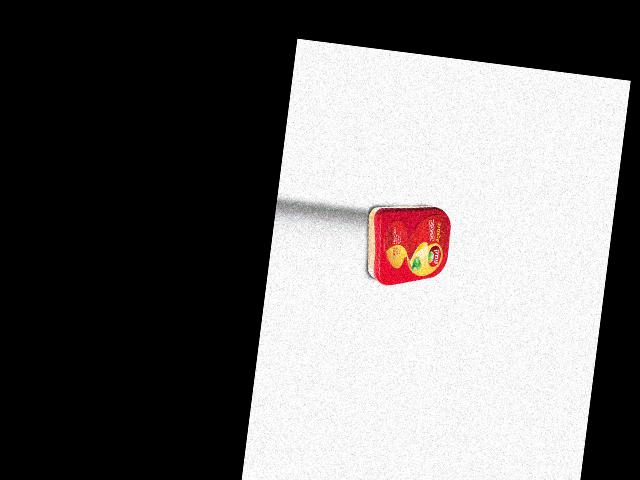cheese: (360, 198, 453, 292)
